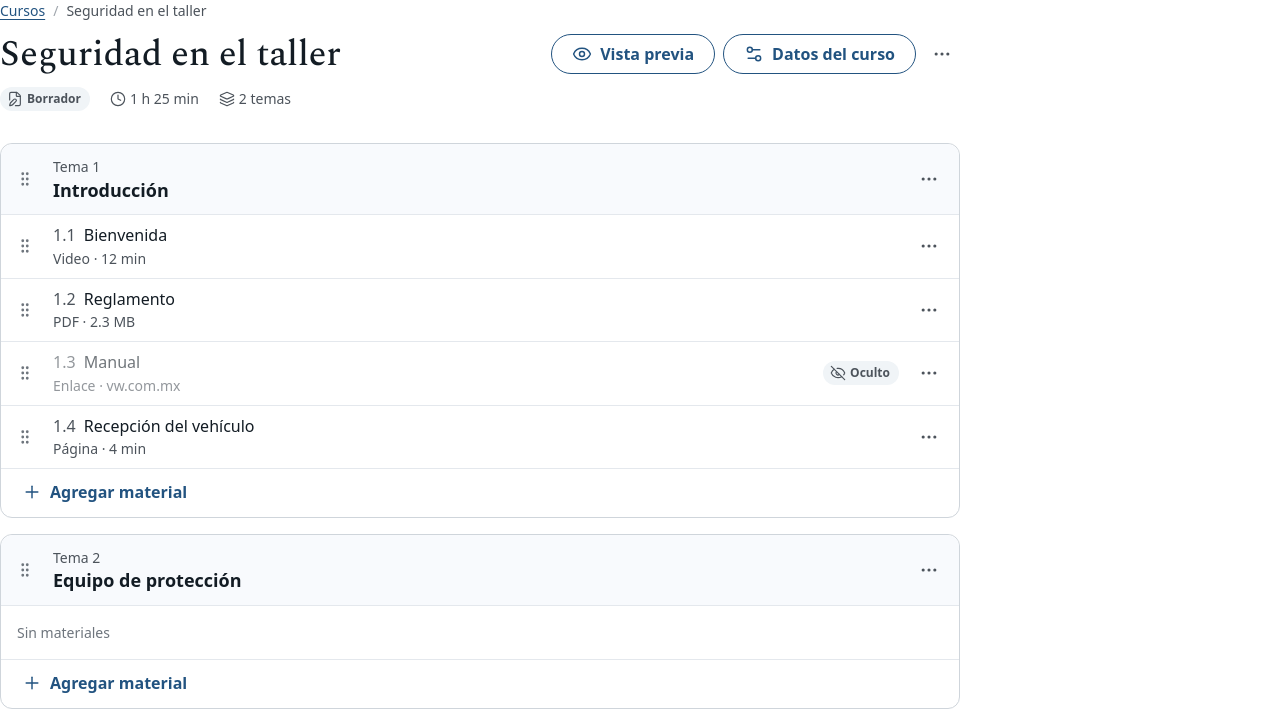
it: Editor de contenido del curso › al editar los datos del curso envía el actualizadoEn que leyó y muestra el aviso si otro guardó antes (V-13)
The image size is (1280, 720).
Step 1. Click the button "Datos del curso" → x=820, y=54, box left=723, top=34, right=916, bottom=74
(page scrolled)
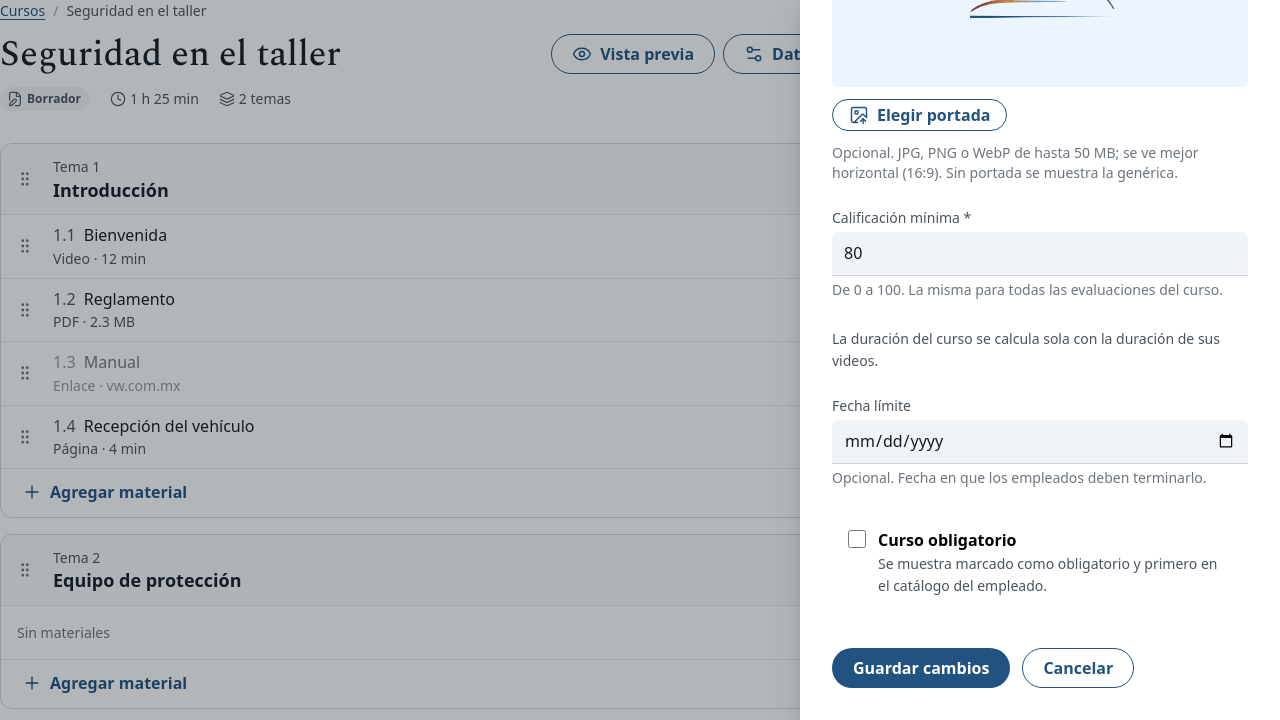
Step 2. Click the button "Guardar cambios" → x=921, y=668, box left=832, top=648, right=1010, bottom=688
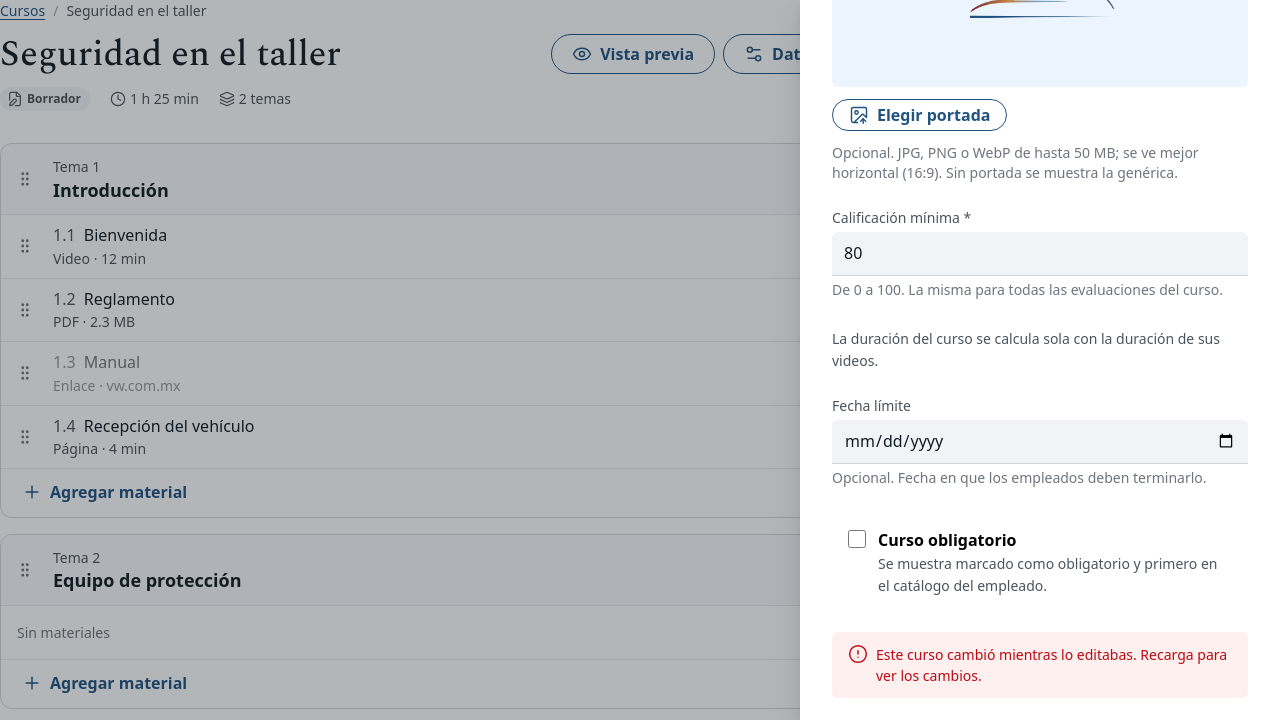
Expected: the text "Este curso cambió mientras lo editabas. Recarga para ver los cambios." is shown, left=876, top=644, right=1232, bottom=686
